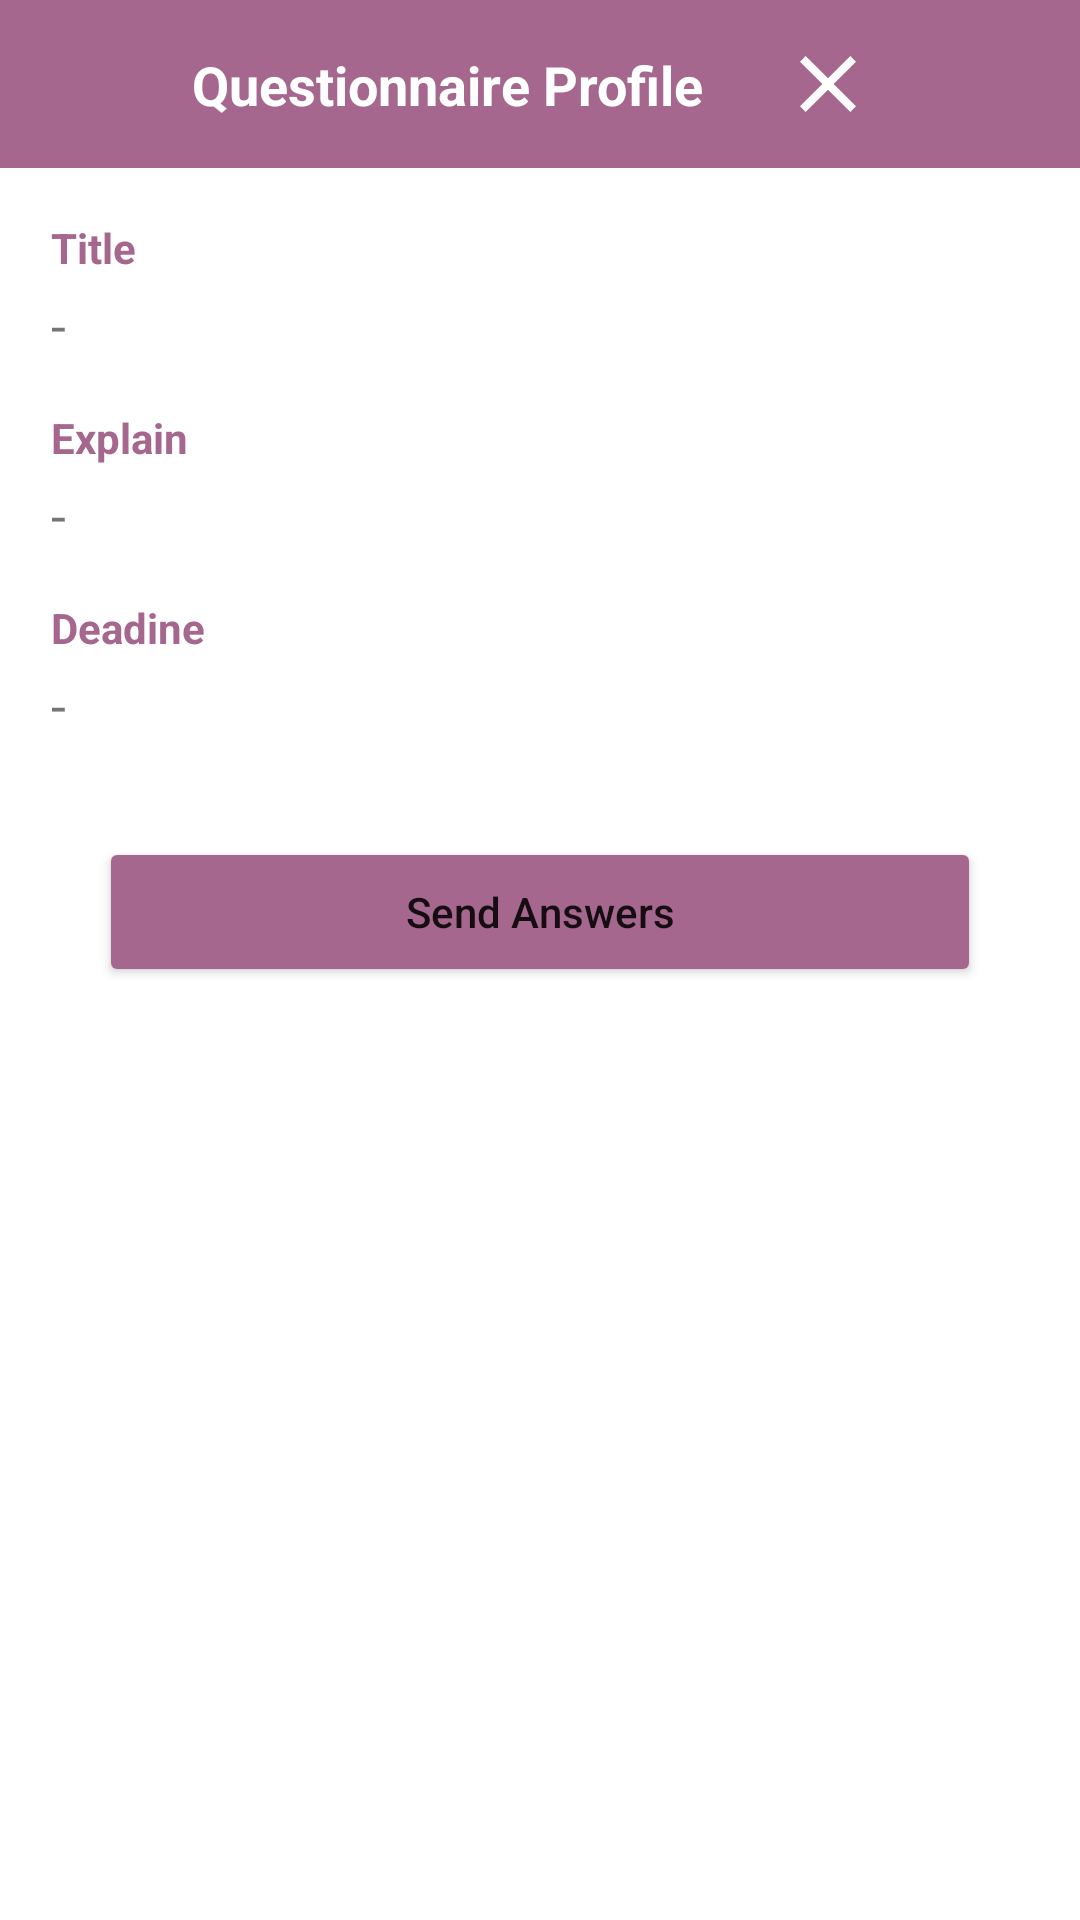

Icon bounding boxes for this 1080×1920 phone screenshot, format (x1, y1, x2, y2):
close: (800, 56, 856, 112)
